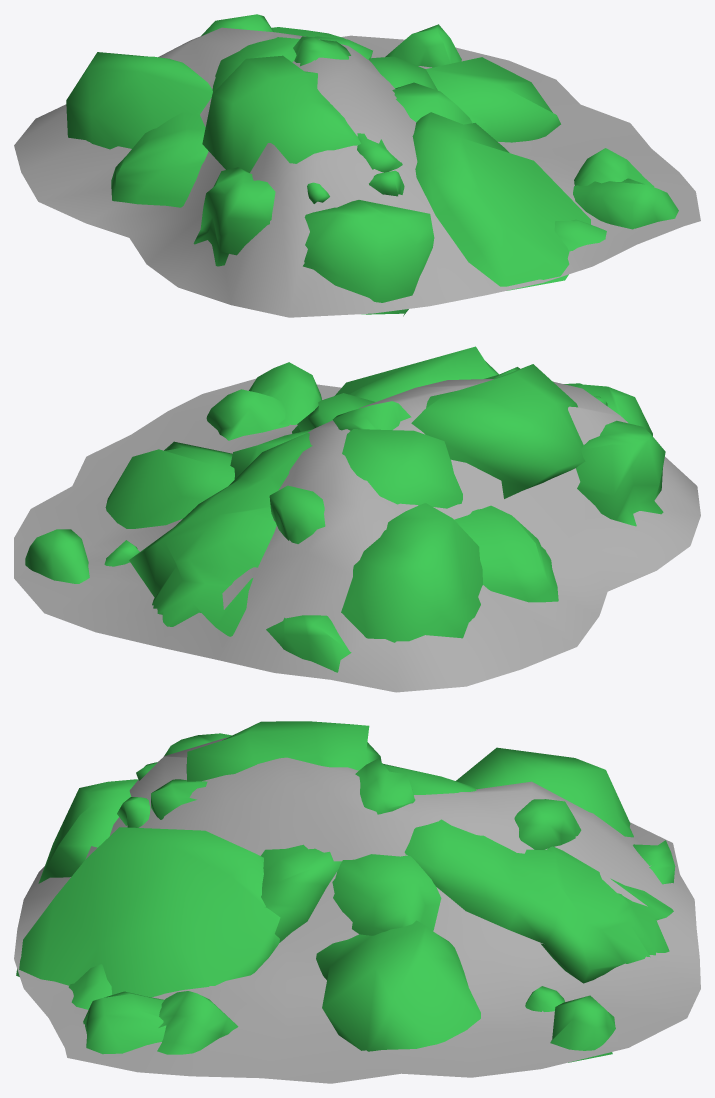
File: Quarry2.fbx
The picture shows the model from 3 angles, top to bottom: view 1: azimuth 30°, elevation 25°; view 2: azimuth 150°, elevation 25°; view 3: azimuth 270°, elevation 25°; orthographic projection. The views are drawn at different scales.
Visible parts, largest first — view 1: polySurface130; view 2: polySurface130; view 3: polySurface130.
Boxes of the visible parts, x1,y1,x2,y2 form: polySurface130: [14, 14, 700, 317]; polySurface130: [14, 346, 700, 692]; polySurface130: [14, 721, 700, 1083].
Size of the model in its own units: 1.11 by 0.3395 by 1.12.
